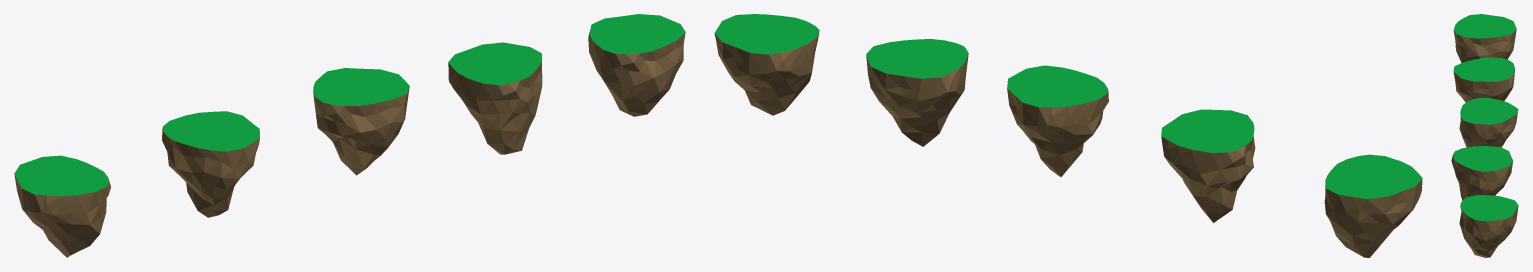
File: Bridge_Fracture.fbx
3 views of the same model, side by side, from view 1: azimuth 30°, elevation 25°; view 2: azimuth 150°, elevation 25°; view 3: azimuth 270°, elevation 25° (orthographic). The views are drawn at different scales.
Parts seen in each view (by area): view 1: Icosphere, Icosphere.004, Icosphere.003, Icosphere.002, Icosphere.001, Icosphere.003_cell.098, Icosphere.002_cell.018, Icosphere.003_cell.059, Icosphere_cell.019, Icosphere.002_cell.062, Icosphere.001_cell.091, Icosphere.003_cell.024 (+3 smaller); view 2: Icosphere, Icosphere.004, Icosphere.003, Icosphere.002, Icosphere.001, Icosphere.003_cell.097, Icosphere_cell.034, Icosphere.002_cell.018, Icosphere.001_cell.057, Icosphere.003_cell.080, Icosphere_cell.033, Icosphere.002_cell.062 (+4 smaller); view 3: Icosphere, Icosphere.003, Icosphere.002, Icosphere.001, Icosphere.004, Icosphere.004_cell.079, Icosphere.004_cell.048, Icosphere.001_cell.073, Icosphere.002_cell.018, Icosphere.004_cell.056, Icosphere_cell.026, Icosphere.001_cell.067 (+41 smaller).
Boxes of the visible parts, x1,y1,x2,y2 form: Icosphere: (588,14,685,116); Icosphere.004: (14,155,108,257); Icosphere.003: (162,111,259,217); Icosphere.002: (313,68,409,175); Icosphere.001: (448,42,542,154); Icosphere.003_cell.098: (199,141,228,187); Icosphere.002_cell.018: (319,89,371,134); Icosphere.003_cell.059: (176,132,216,176); Icosphere_cell.019: (658,36,676,99); Icosphere.002_cell.062: (315,73,360,90); Icosphere.001_cell.091: (471,76,502,102); Icosphere.003_cell.024: (220,141,248,180); Icosphere: (714,14,819,115); Icosphere.004: (1325,154,1422,257); Icosphere.003: (1161,109,1254,222); Icosphere.002: (1007,65,1108,176); Icosphere.001: (866,39,968,146); Icosphere.003_cell.097: (1205,134,1242,184); Icosphere_cell.034: (745,51,776,90); Icosphere.002_cell.018: (1058,75,1108,120); Icosphere.001_cell.057: (876,63,913,110); Icosphere.003_cell.080: (1163,115,1217,133); Icosphere_cell.033: (775,42,799,91); Icosphere.002_cell.062: (1041,86,1076,107); Icosphere: (1459,195,1518,257); Icosphere.003: (1453,57,1514,102); Icosphere.002: (1459,98,1517,147); Icosphere.001: (1451,146,1512,199); Icosphere.004: (1453,14,1516,57); Icosphere.004_cell.079: (1456,30,1478,60); Icosphere.004_cell.048: (1487,26,1515,58); Icosphere.001_cell.073: (1492,162,1510,190); Icosphere.002_cell.018: (1461,98,1489,111); Icosphere.004_cell.056: (1477,29,1488,58); Icosphere_cell.026: (1492,217,1504,241); Icosphere.001_cell.067: (1479,161,1496,189).
Size of the model in its own units: 7396 by 1016 by 1014.
